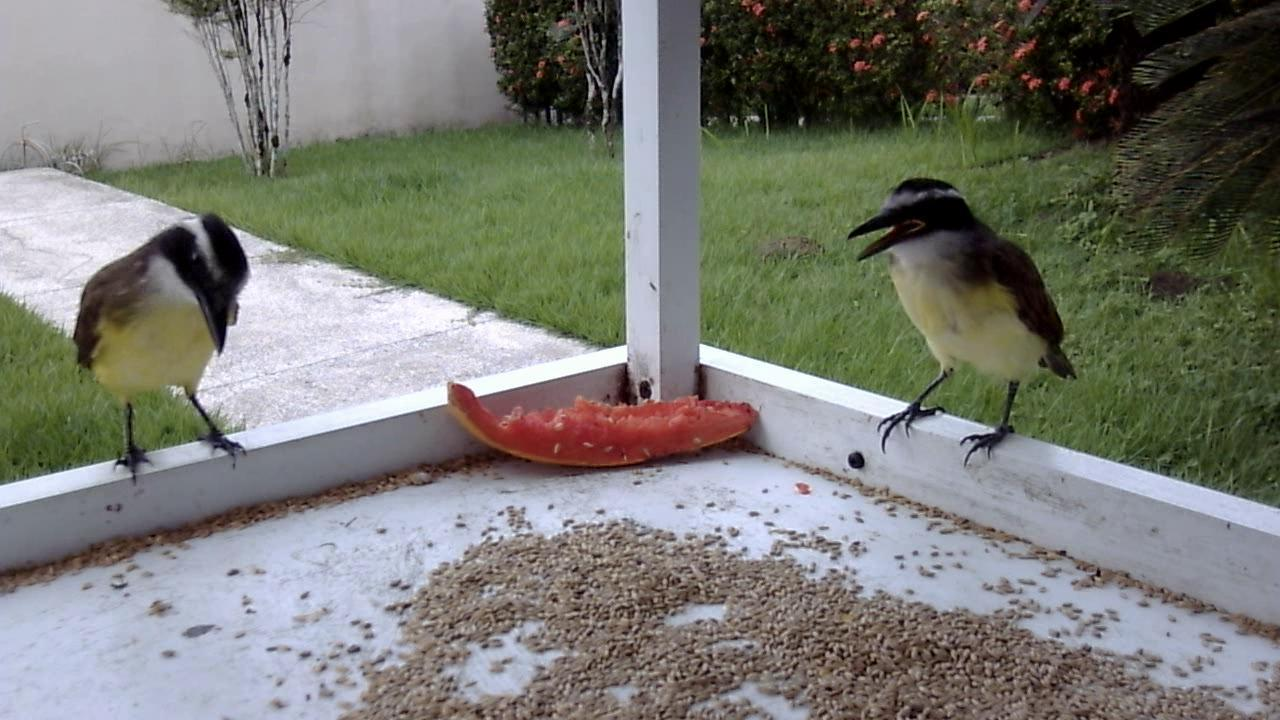bem_te_vi: (844, 170, 1082, 477), (60, 198, 260, 501)
